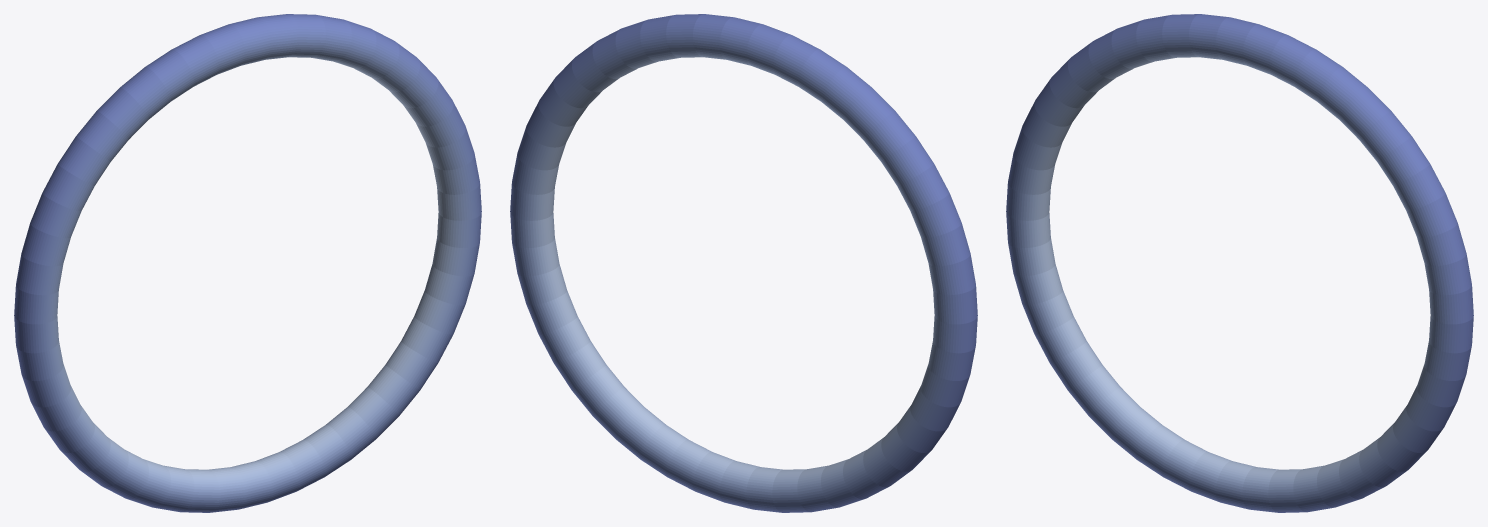
3 views of the same model, side by side, from view 1: azimuth 30°, elevation 25°; view 2: azimuth 150°, elevation 25°; view 3: azimuth 330°, elevation 25° (orthographic).
Visible parts, largest first — view 1: world; view 2: world; view 3: world.
Part boxes in pixels (x1=…): world: x1=14, y1=14, x2=481, y2=512; world: x1=510, y1=14, x2=977, y2=512; world: x1=1006, y1=14, x2=1473, y2=512.
Bounding box in the file's own units: 31.2 × 31.14 × 2.53.
